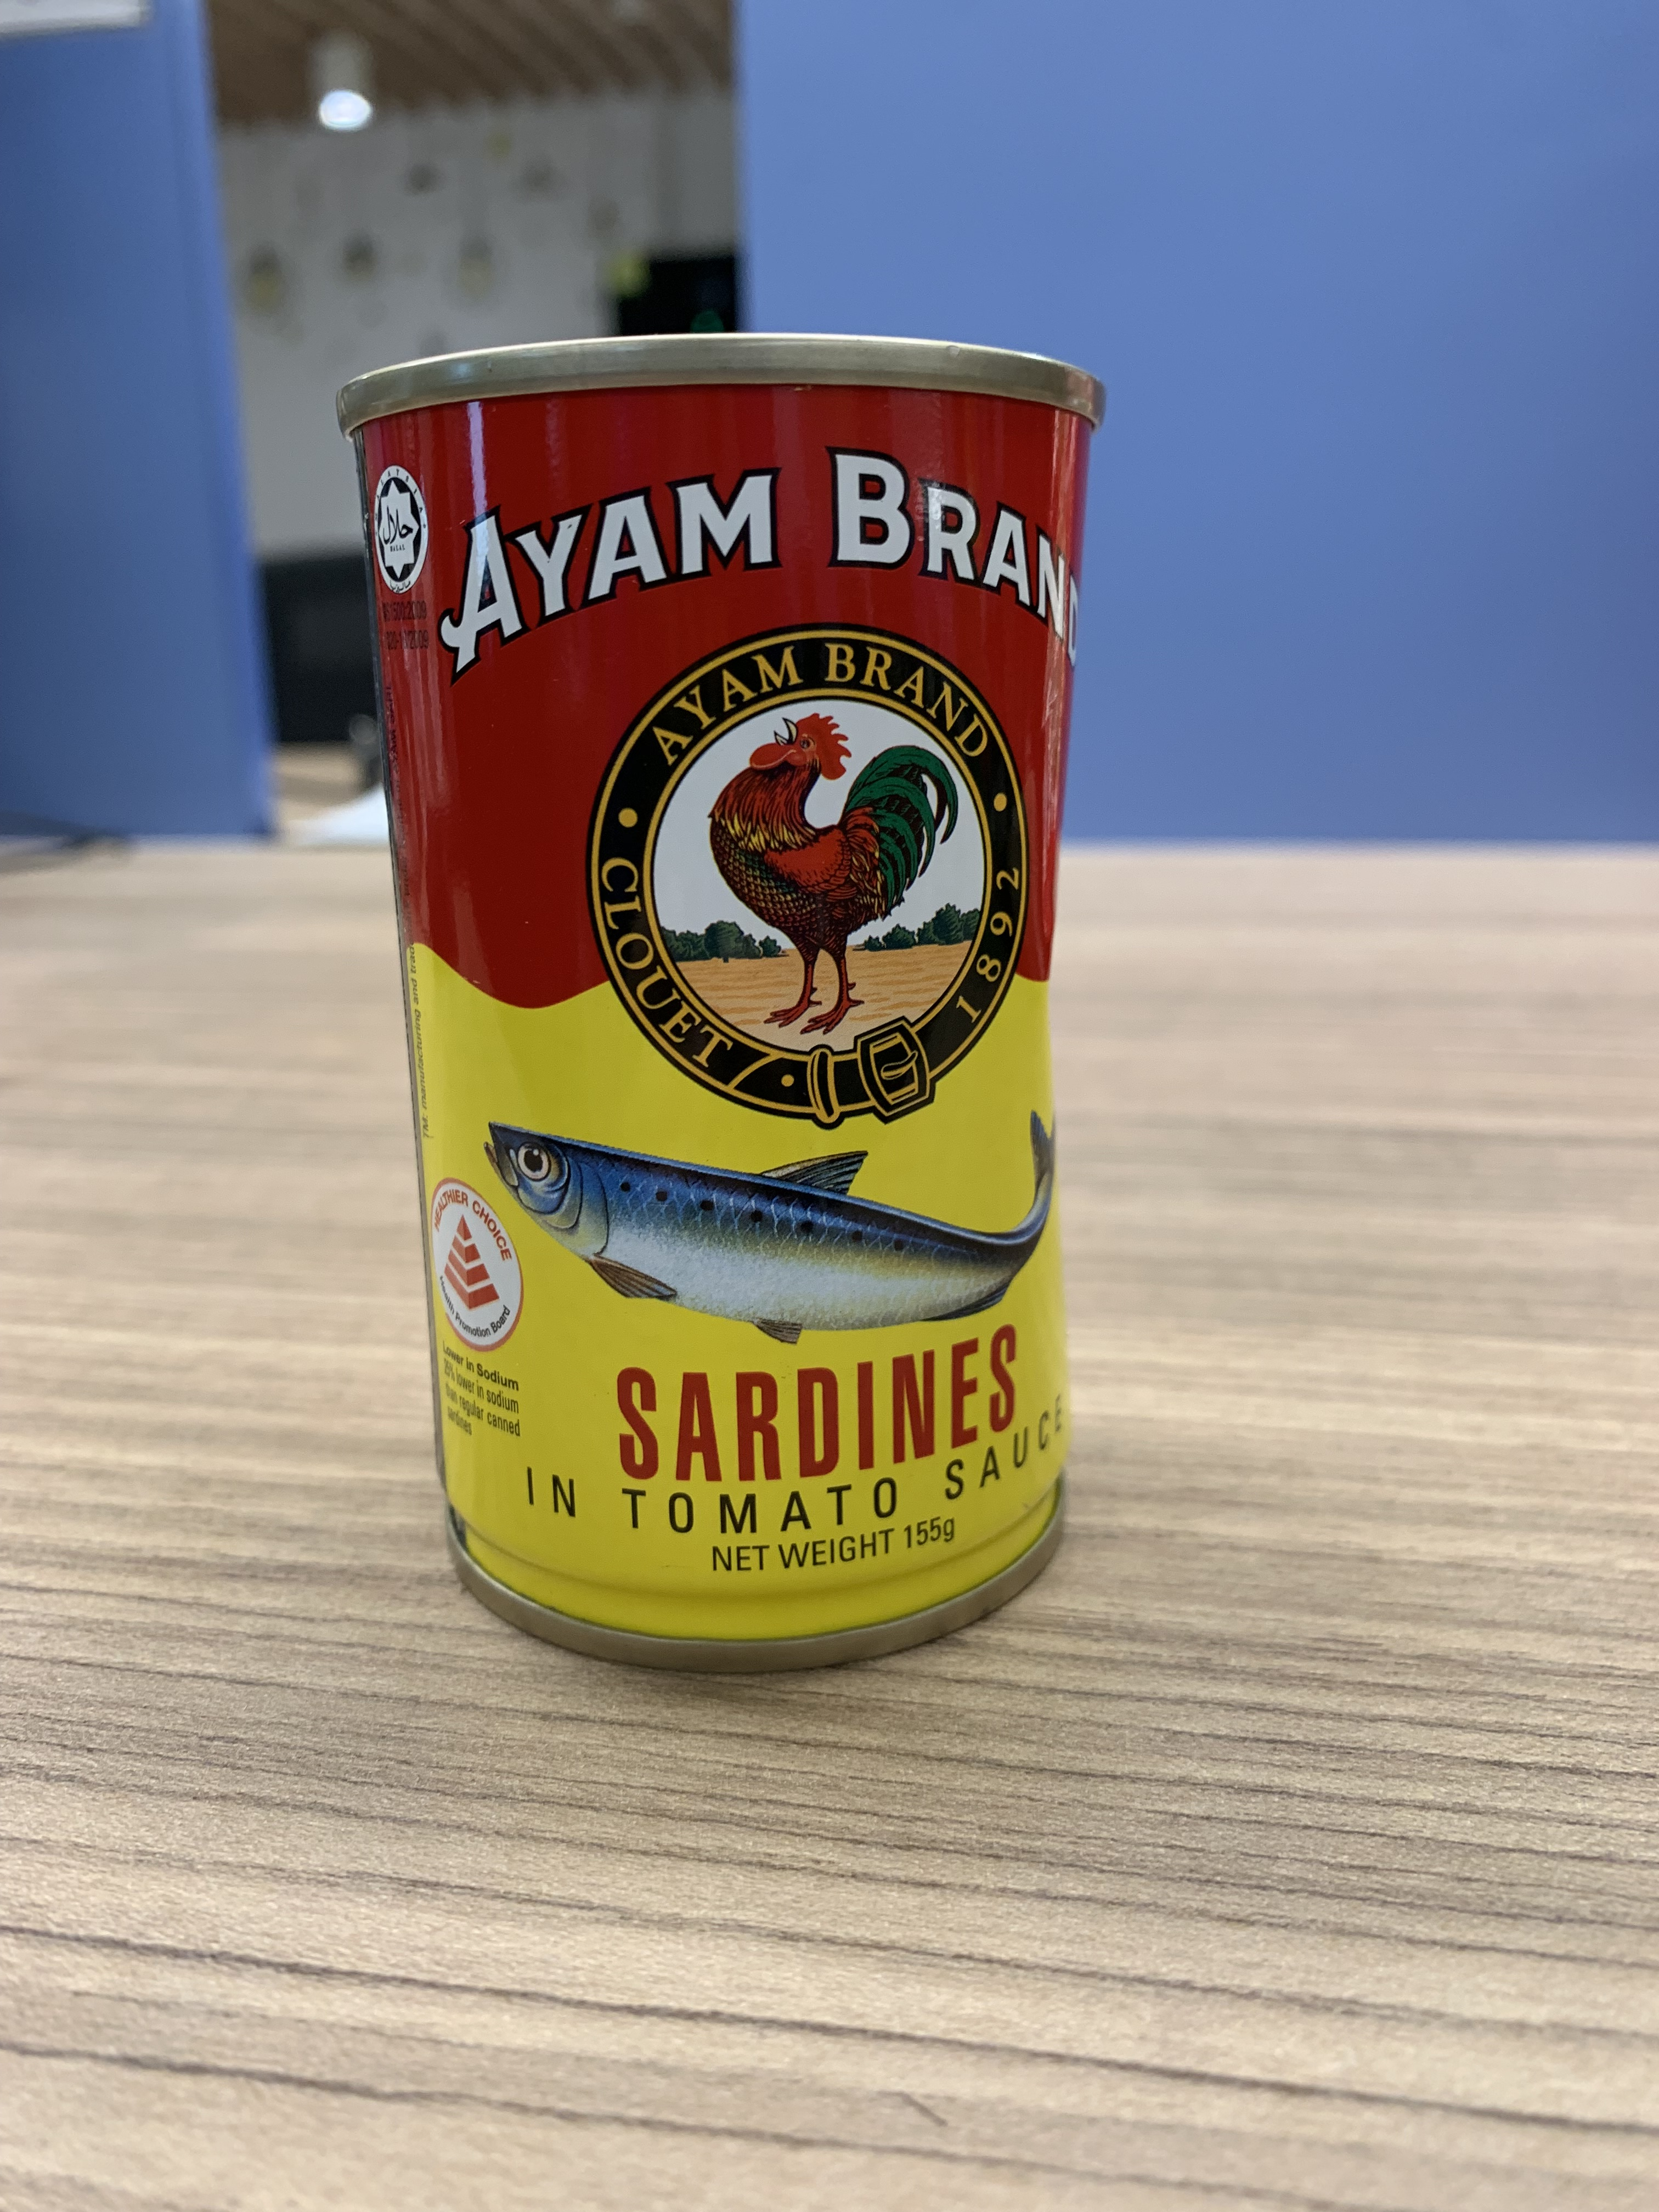sardines_100g-199g: (396, 406, 1068, 1597)
